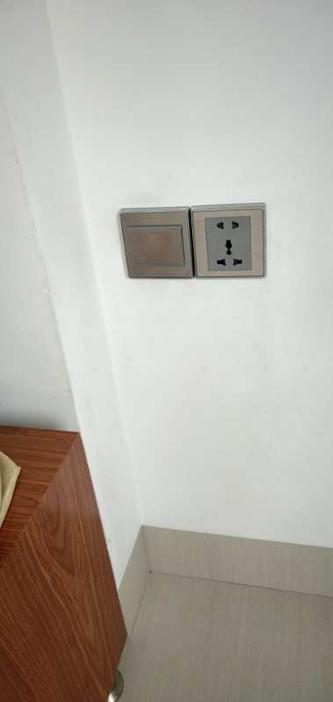switch: (128, 226, 189, 278)
